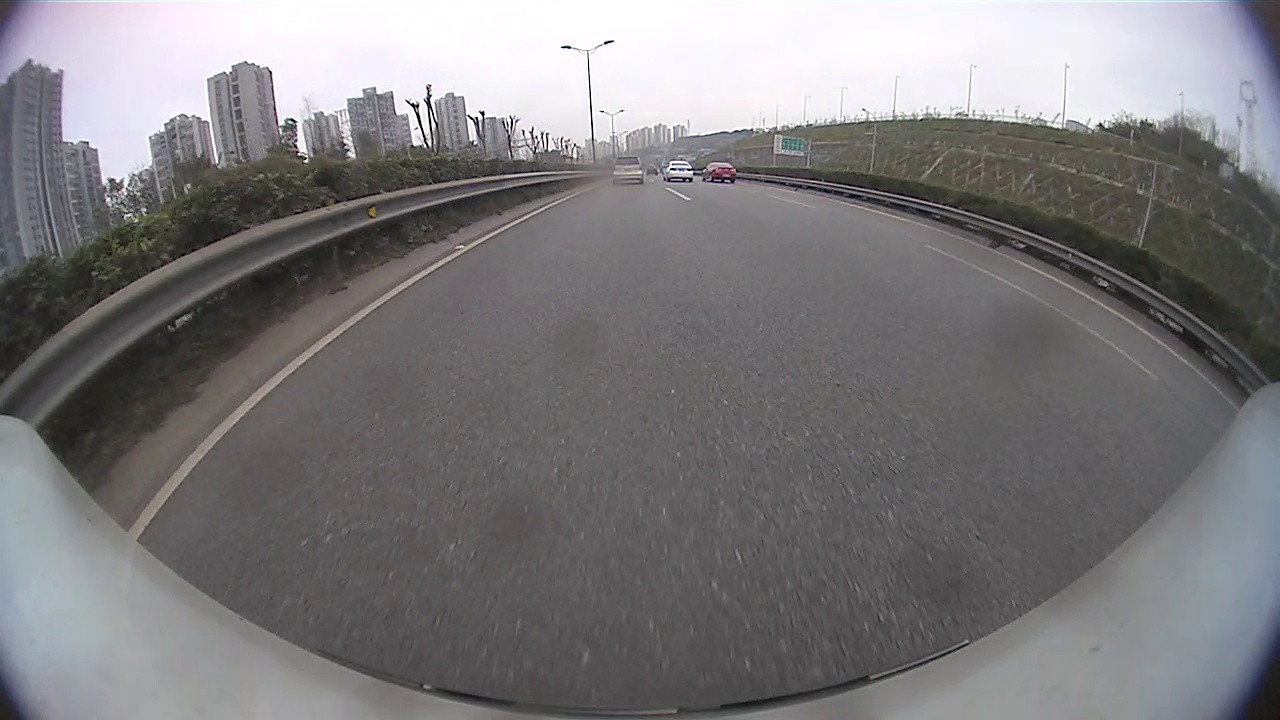car: (610, 154, 645, 186), (699, 160, 737, 183), (660, 159, 694, 183)
